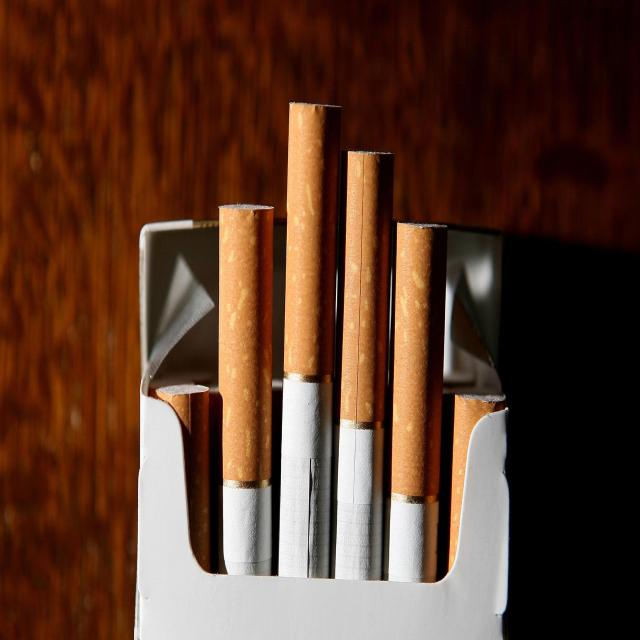cigarette: (279, 103, 341, 579), (335, 152, 394, 582), (217, 204, 274, 577), (389, 222, 447, 583)
